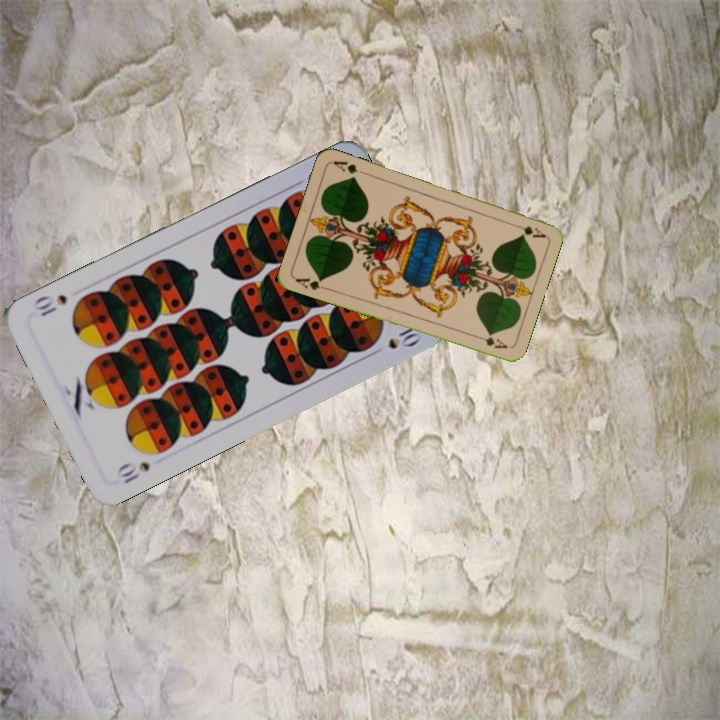GA: (508, 219, 548, 240), (291, 274, 331, 293)
S10: (112, 457, 153, 486)
